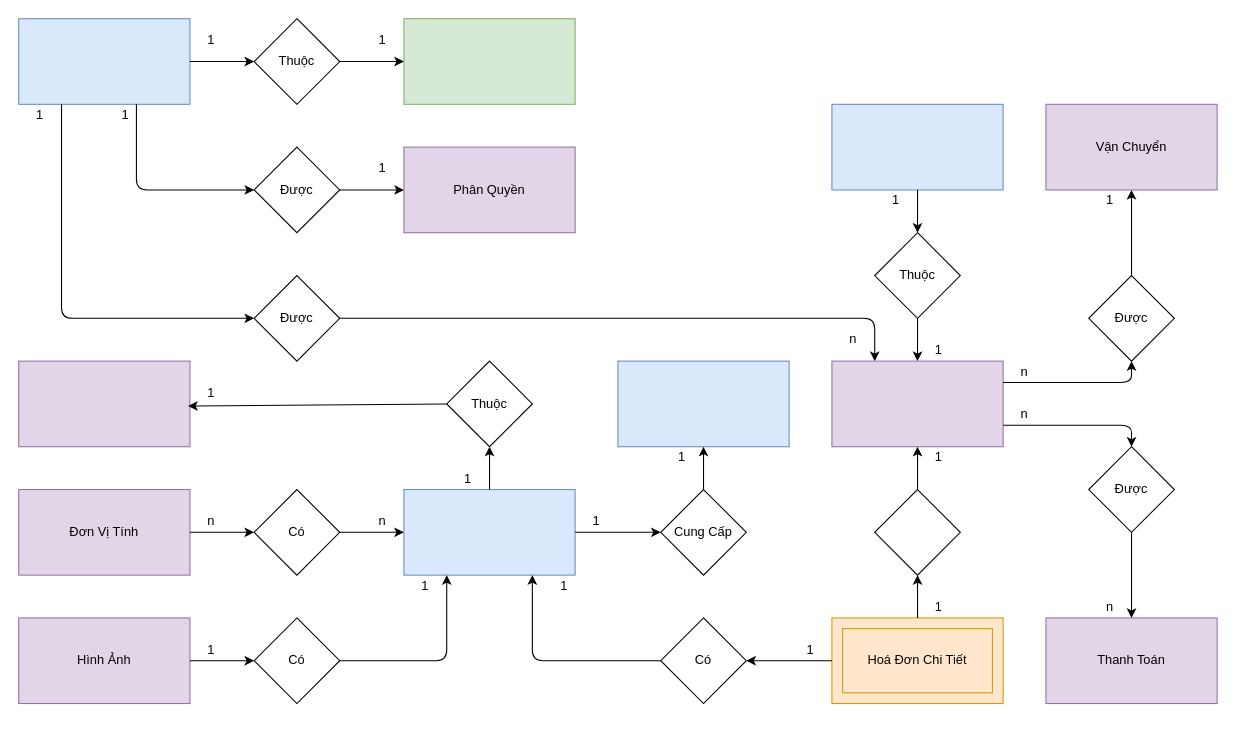
Some shapes in this 1236 by 752 pixel diagram are drawn without their labels. The shapes that lost their labels are listed below. From the top down, each one's centre as x and y in pixels, then its label:
the point at 104,61: Nhân Viên
the point at 489,61: Cửa Hàng
the point at 917,146: Khách Hàng
the point at 104,403: Chủng Loại
the point at 703,403: Nhà Cung Cấp
the point at 917,403: Hoá Đơn
the point at 489,531: Hàng Hoá
the point at 917,531: Thuộc về
